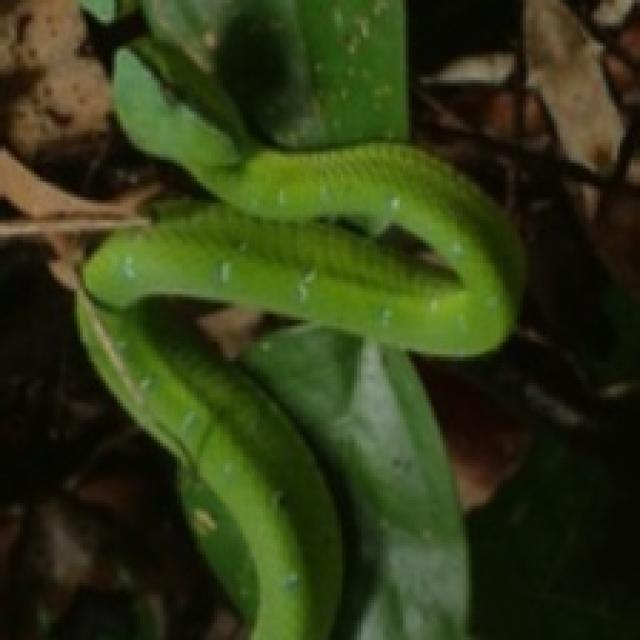north ph temple pitviper: (77, 0, 520, 637), (83, 0, 520, 354)
